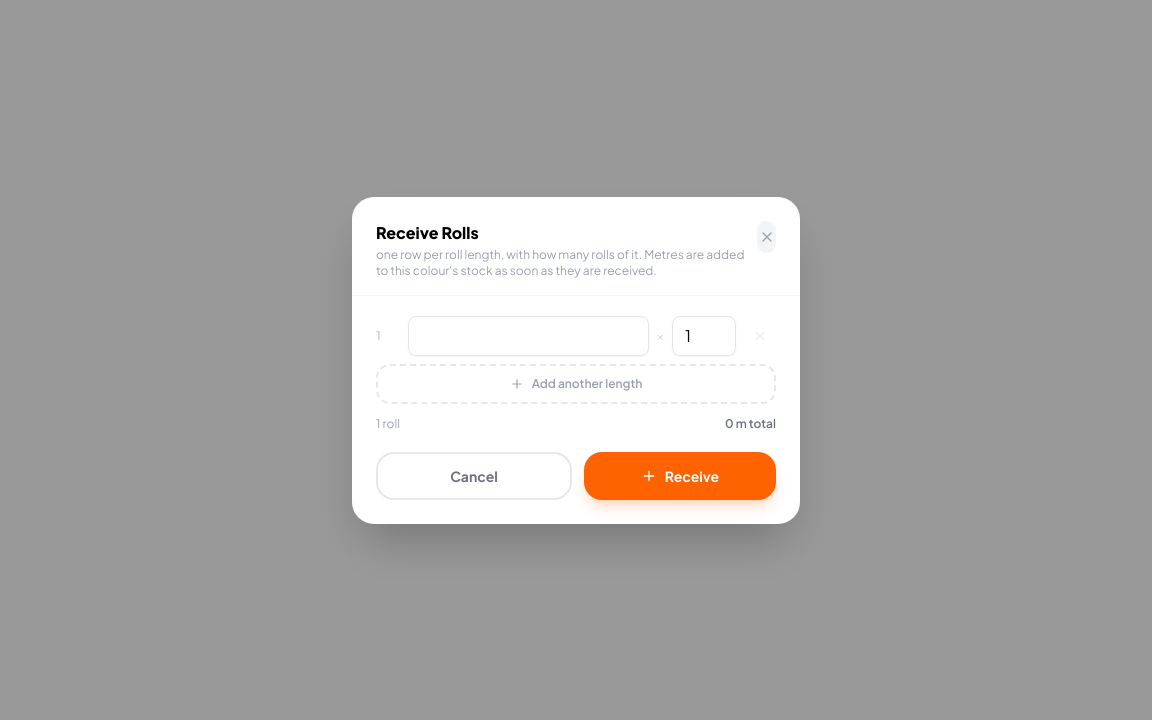
Test case: ReceiveRollsDialog › refuses a count that is not a whole number of rolls
The image size is (1152, 720).
In the number field named "Roll 1 metres": (528, 336) 408,316 -> 649,356, type "100"
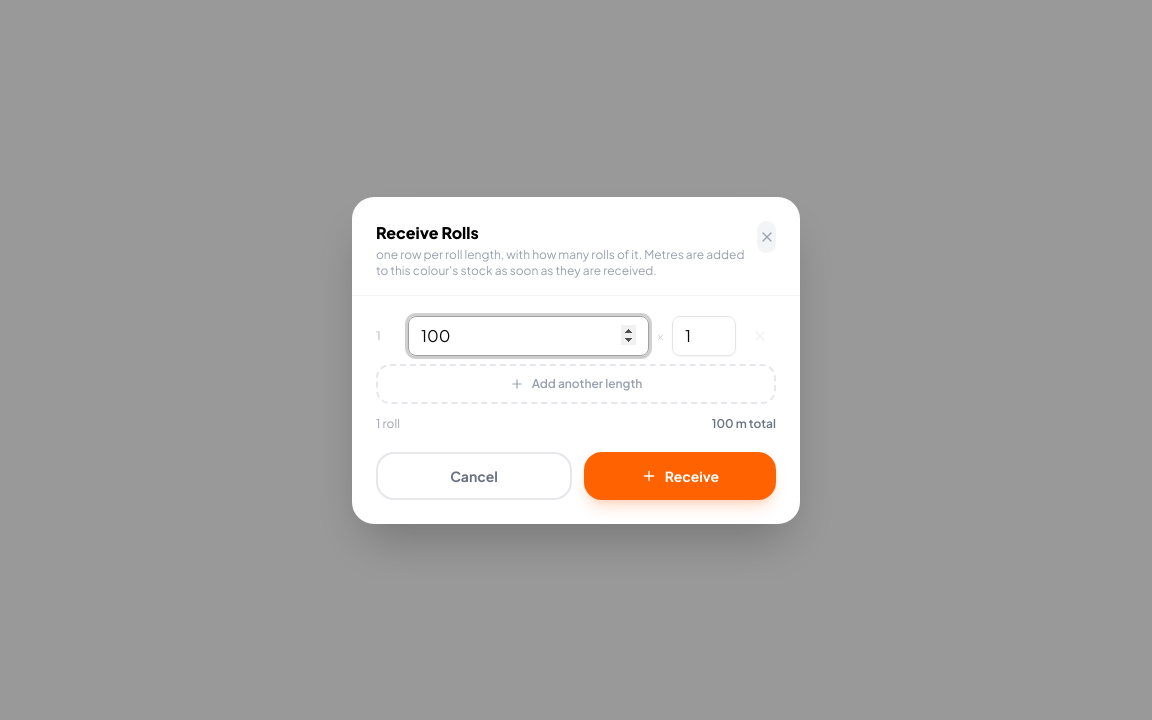
Replace the text in the number field named "Roll 1 count" with "1.5": (704, 336) 672,316 -> 736,356
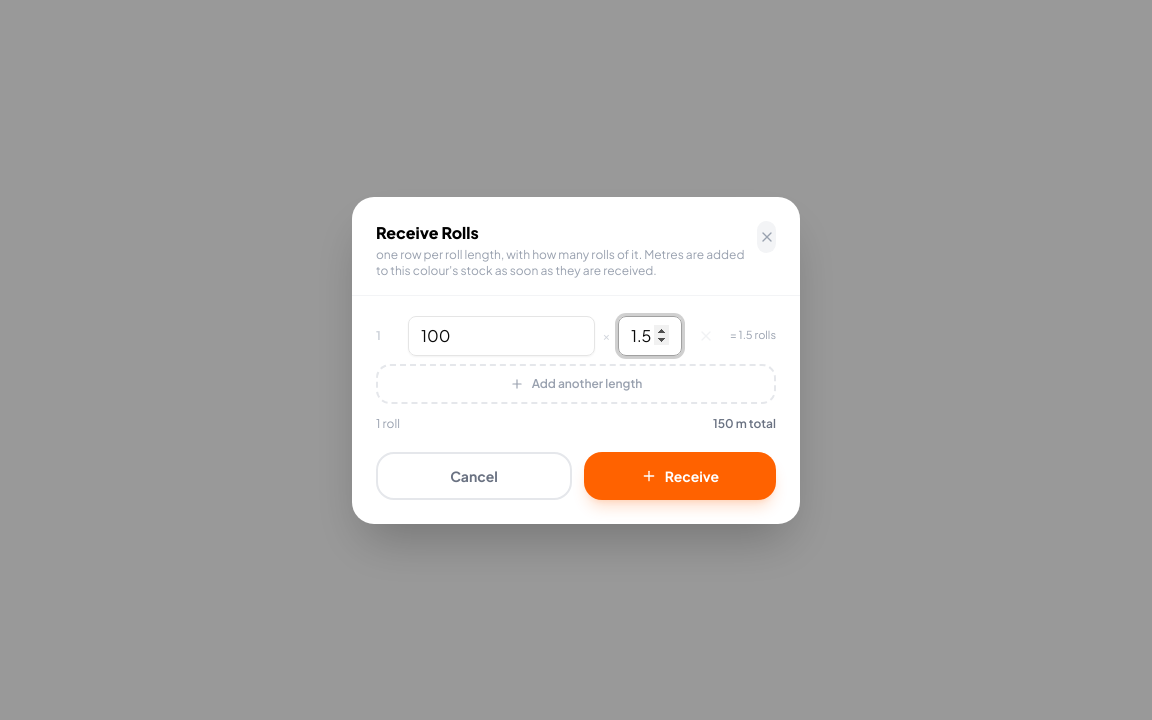
Click the button "Receive": (680, 476) 584,452 -> 776,500
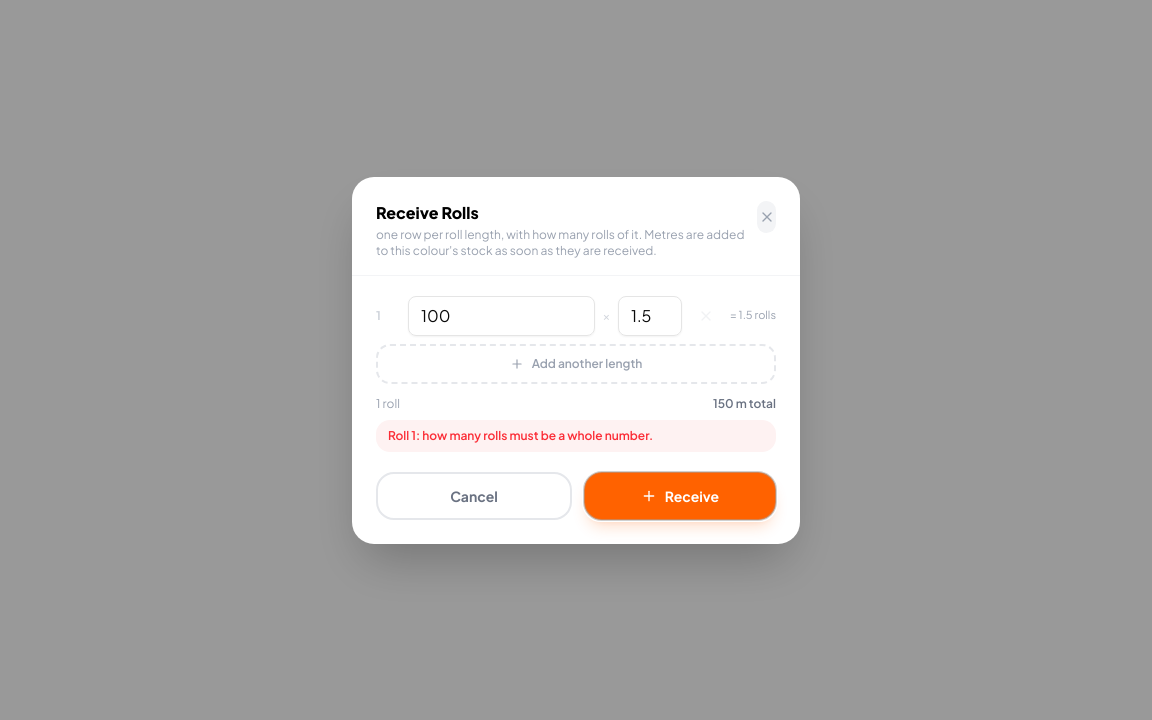
Expected: the text "Roll 1: how many rolls must be a whole number." is shown, 376,420 -> 776,452
Clear the number field named "Roll 1 count": (650, 316) 618,296 -> 682,336
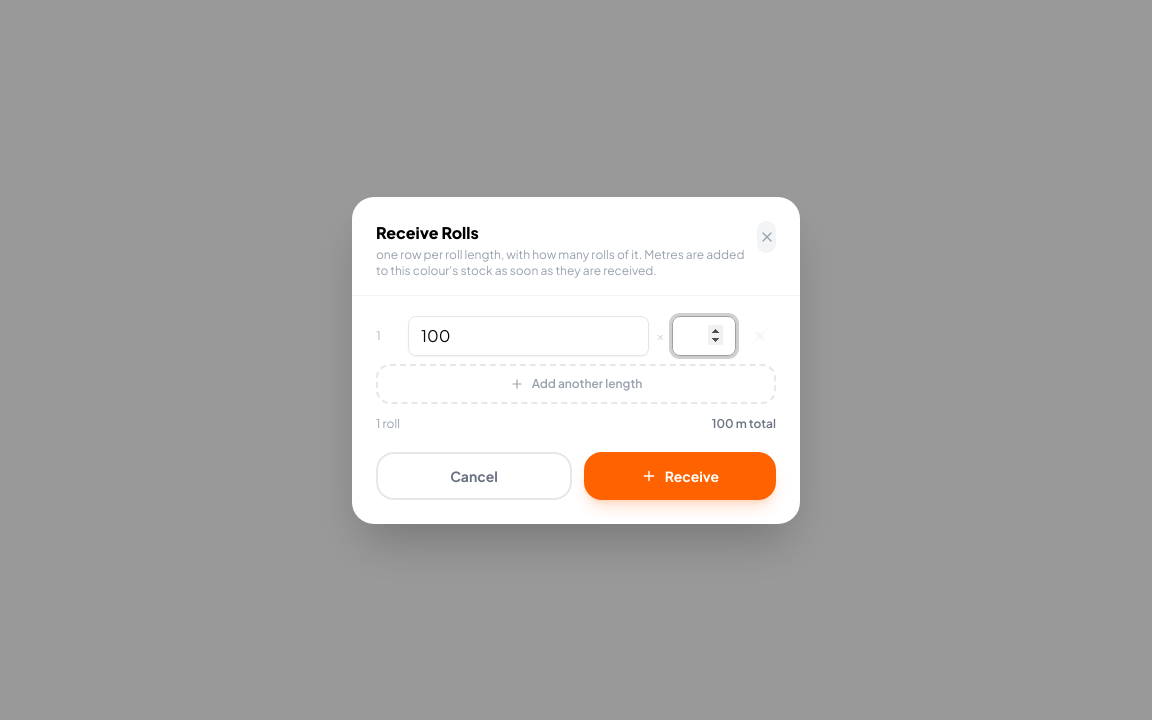
In the number field named "Roll 1 count": (704, 336) 672,316 -> 736,356, type "0"
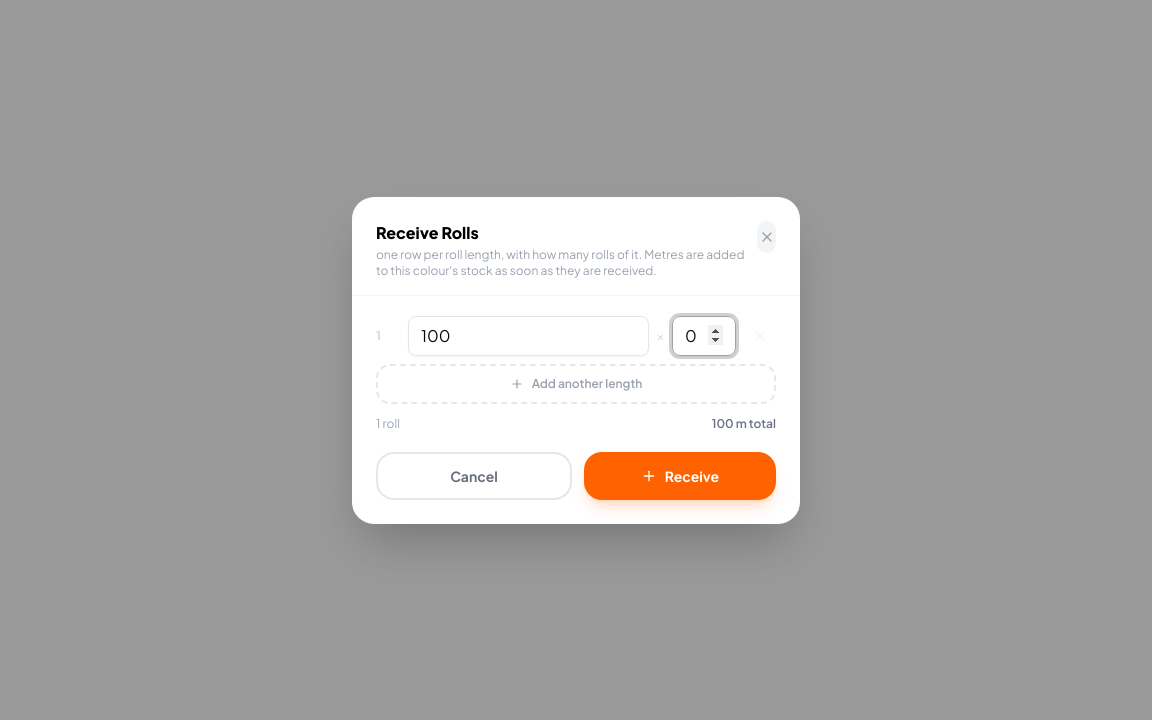
Click the button "Receive": (680, 476) 584,452 -> 776,500
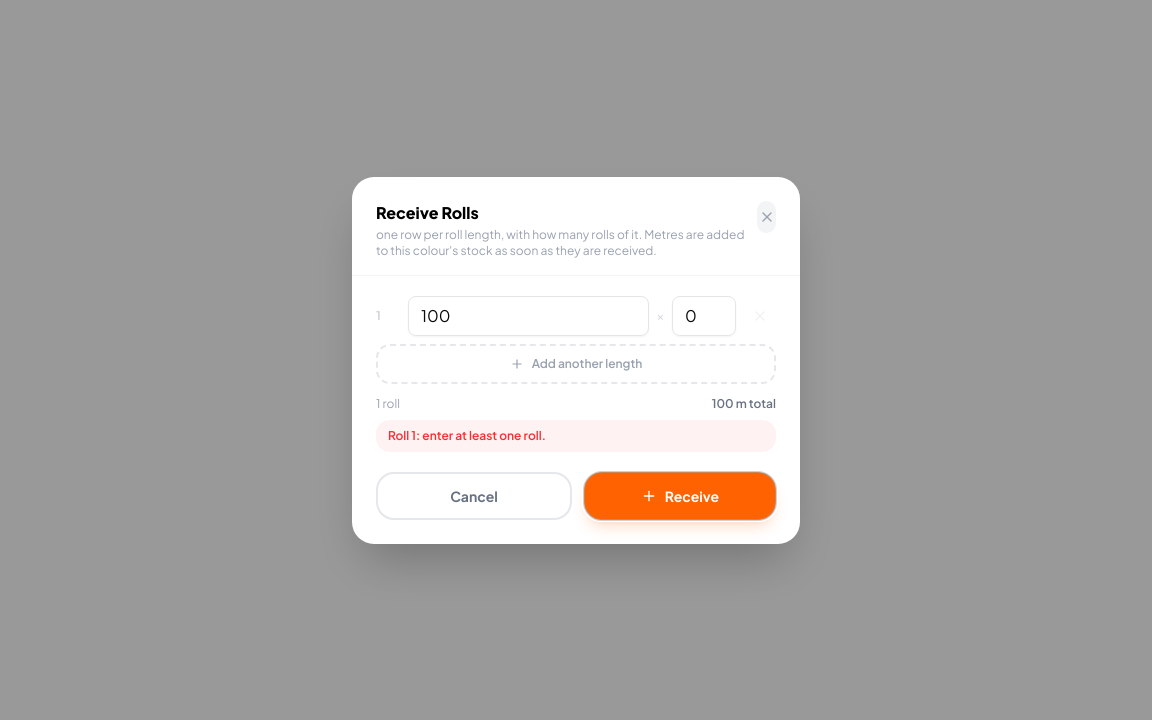
Expected: the text "Roll 1: enter at least one roll." is shown, 376,420 -> 776,452
